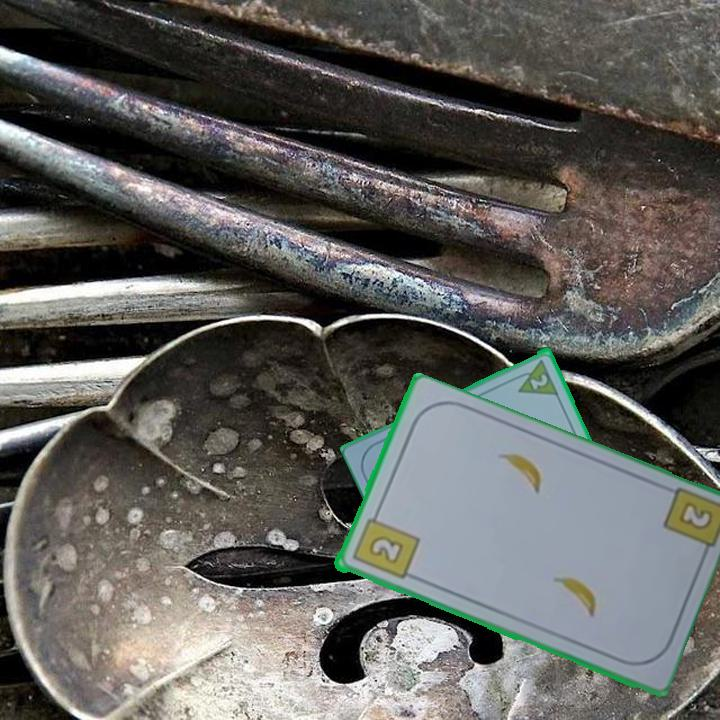2b: (348, 507, 421, 582), (674, 498, 716, 534)
2p: (510, 355, 561, 398)
